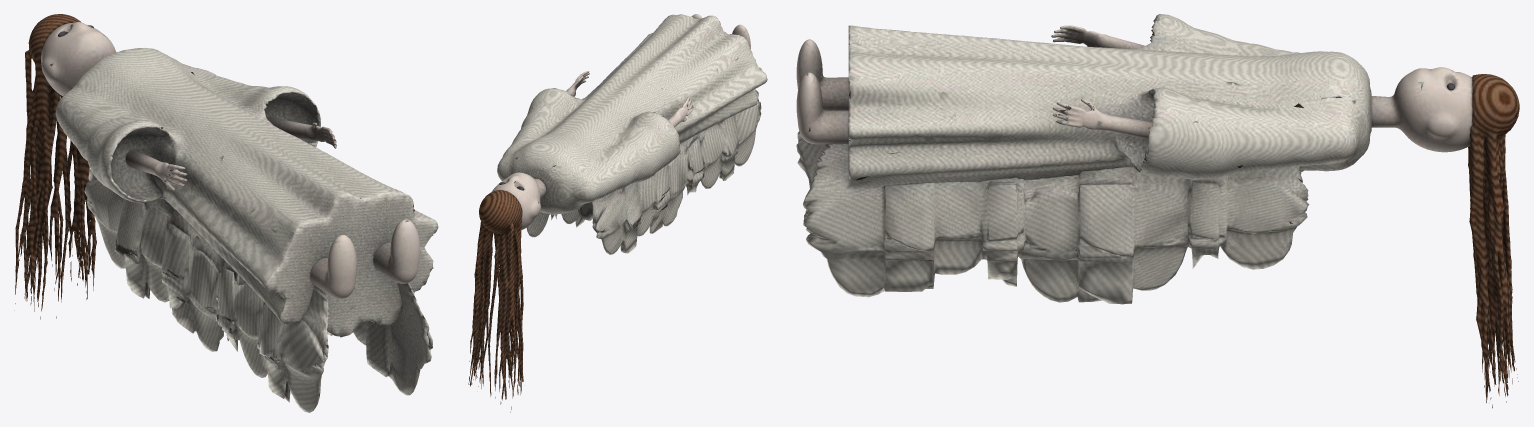
File: levitating_woman.glb
The picture shows the model from 3 angles, left to right: view 1: azimuth 30°, elevation 25°; view 2: azimuth 150°, elevation 25°; view 3: azimuth 270°, elevation 25°; orthographic projection. The views are drawn at different scales.
Parts seen in each view (by area): view 1: Levitating_Dress, Gown_Drape, Hanging_Hair, Levitating_Skin; view 2: Levitating_Dress, Gown_Drape, Hanging_Hair, Levitating_Skin; view 3: Levitating_Dress, Gown_Drape, Levitating_Skin, Hanging_Hair.
Part boxes in pixels (x1=…): Levitating_Dress: x1=55, y1=48, x2=438, y2=337; Gown_Drape: x1=84, y1=169, x2=432, y2=412; Hanging_Hair: x1=14, y1=14, x2=96, y2=319; Levitating_Skin: x1=41, y1=22, x2=419, y2=299; Levitating_Dress: x1=497, y1=14, x2=767, y2=214; Gown_Drape: x1=526, y1=89, x2=761, y2=254; Hanging_Hair: x1=468, y1=190, x2=523, y2=412; Levitating_Skin: x1=492, y1=14, x2=750, y2=229; Levitating_Dress: x1=848, y1=14, x2=1371, y2=188; Gown_Drape: x1=796, y1=131, x2=1309, y2=304; Levitating_Skin: x1=796, y1=25, x2=1472, y2=152; Hanging_Hair: x1=1468, y1=74, x2=1519, y2=408.
Bounding box in the file's own units: 0.6567 × 1.02 × 1.81.
Materials: 1 (1 with a texture image).
